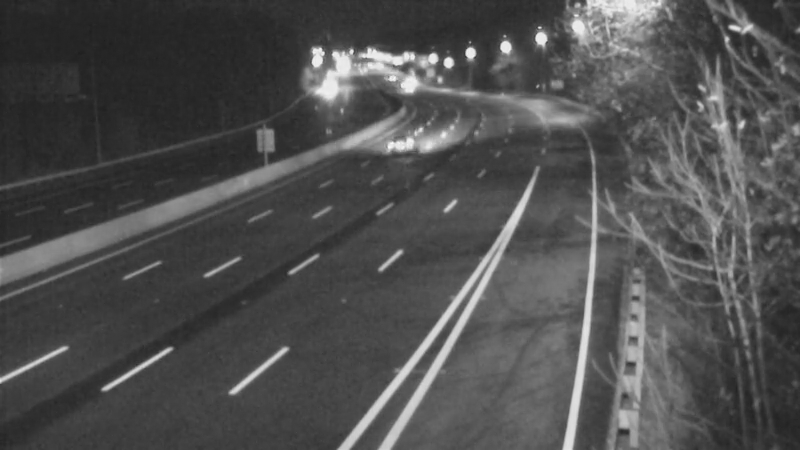vehicle: (384, 65, 434, 115), (371, 125, 421, 175)
